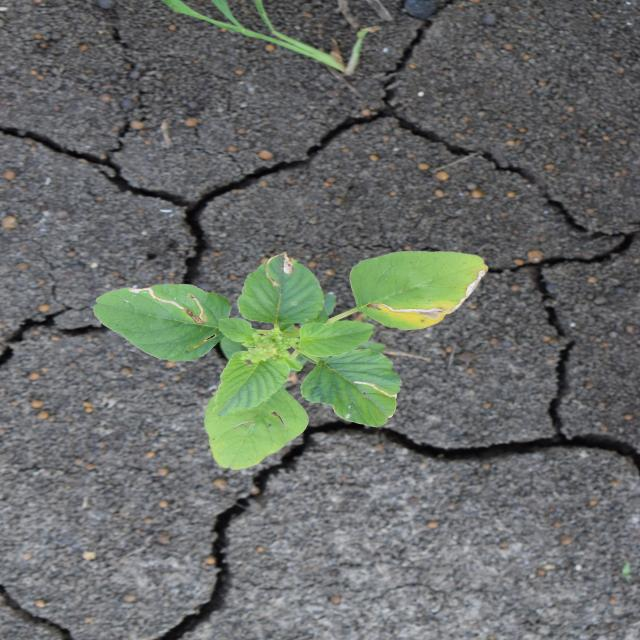PalmerAmaranth: (91, 248, 492, 472)
